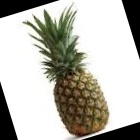Pineapple: (24, 8, 110, 137)
